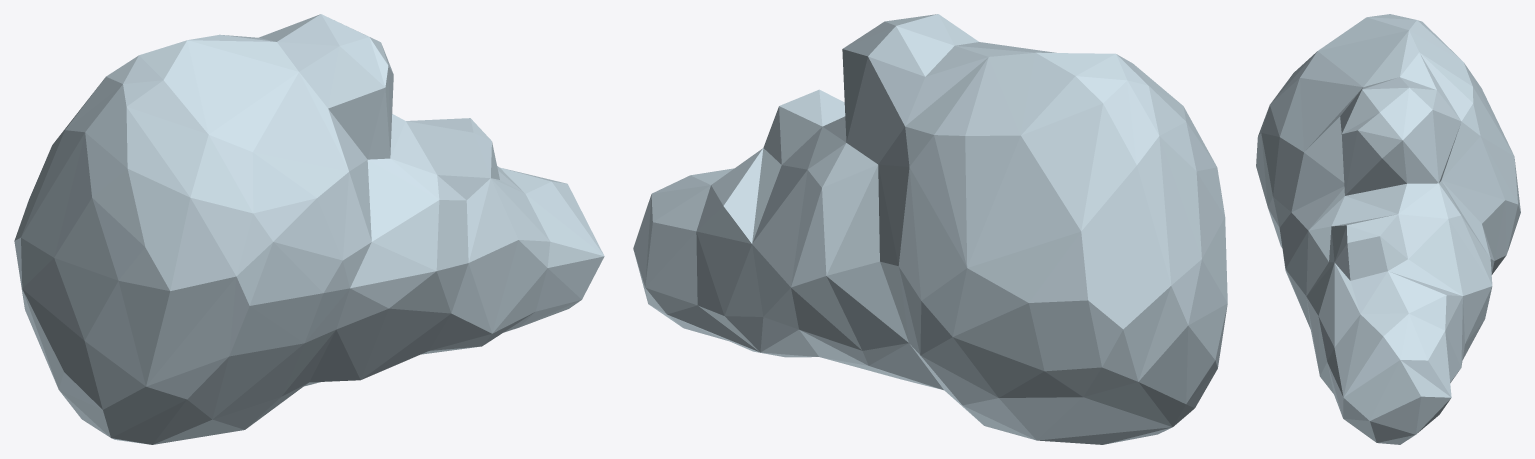
File: Cloud.fbx
3 views of the same model, side by side, from view 1: azimuth 30°, elevation 25°; view 2: azimuth 150°, elevation 25°; view 3: azimuth 270°, elevation 25° (orthographic). The views are drawn at different scales.
Visible parts, largest first — view 1: Cloud; view 2: Cloud; view 3: Cloud.
Boxes of the visible parts, x1=… form: Cloud: x1=14, y1=14, x2=604, y2=444; Cloud: x1=633, y1=14, x2=1227, y2=444; Cloud: x1=1256, y1=14, x2=1520, y2=444.
Bounding box in the file's own units: 4.45 × 2.98 × 2.37.
